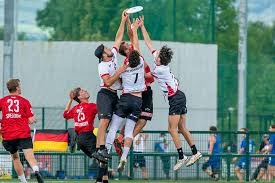disc: (125, 5, 144, 15)
